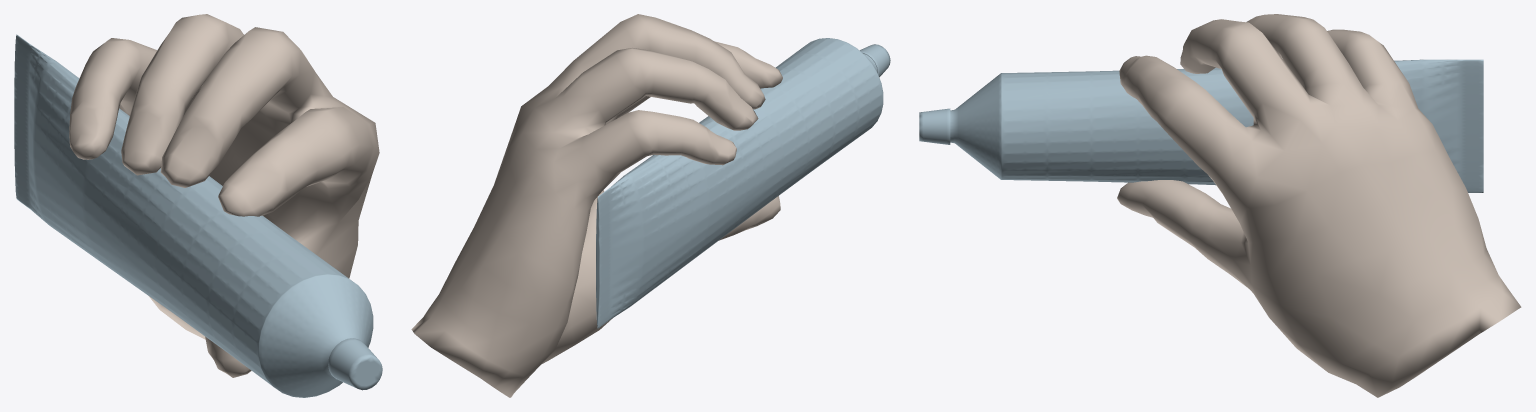
The model's file is pred_28.glb.
3 views of the same model, side by side, from view 1: azimuth 30°, elevation 25°; view 2: azimuth 150°, elevation 25°; view 3: azimuth 270°, elevation 25° (orthographic). The views are drawn at different scales.
Size of the model in its own units: 0.1047 by 0.1309 by 0.2155.
